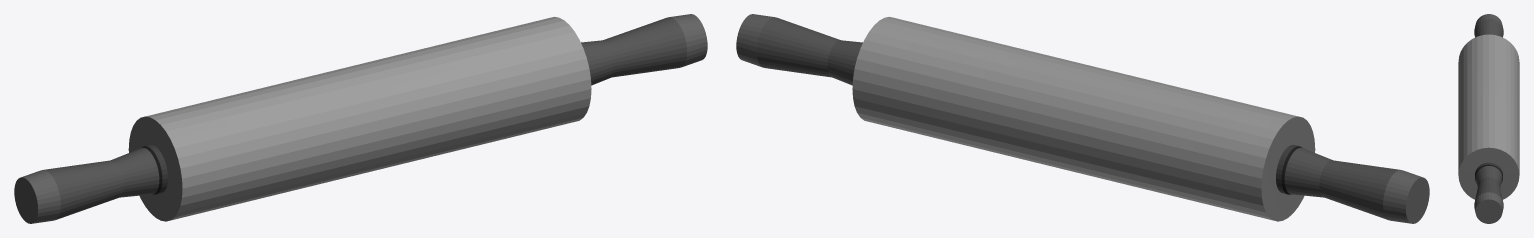
Rendered from RollingPinModel.fbx.
3 views of the same model, side by side, from view 1: azimuth 30°, elevation 25°; view 2: azimuth 150°, elevation 25°; view 3: azimuth 270°, elevation 25° (orthographic). The views are drawn at different scales.
Parts seen in each view (by area): view 1: RollingPinModel; view 2: RollingPinModel; view 3: RollingPinModel.
Part boxes in pixels (x1,y1,x2,y2): RollingPinModel: [14, 14, 707, 223]; RollingPinModel: [736, 14, 1429, 223]; RollingPinModel: [1458, 14, 1519, 223].
Size of the model in its own units: 108 by 15 by 15.
